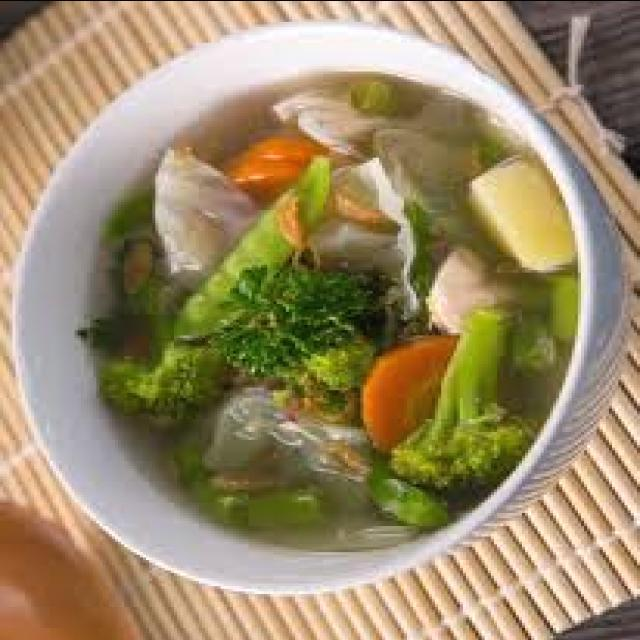sop: (103, 65, 587, 543)
